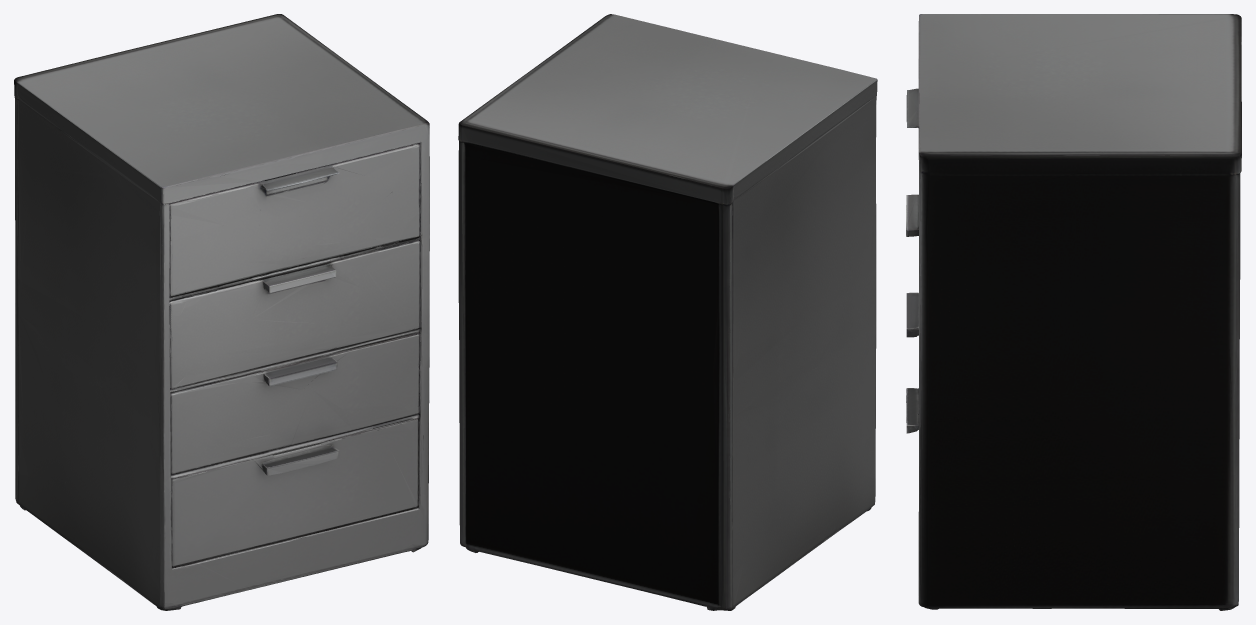
The model's file is filing-cabinet.glb.
3 views of the same model, side by side, from view 1: azimuth 30°, elevation 25°; view 2: azimuth 150°, elevation 25°; view 3: azimuth 270°, elevation 25° (orthographic). The views are drawn at different scales.
Visible parts, largest first — view 1: world; view 2: world; view 3: world.
Boxes of the visible parts, box(x1,y1,x2,y2) form: world: box(14, 14, 429, 610); world: box(458, 14, 877, 610); world: box(906, 14, 1241, 610).
Size of the model in its own units: 13.29 by 20 by 13.31.
Materials: 1 (1 with a texture image).
